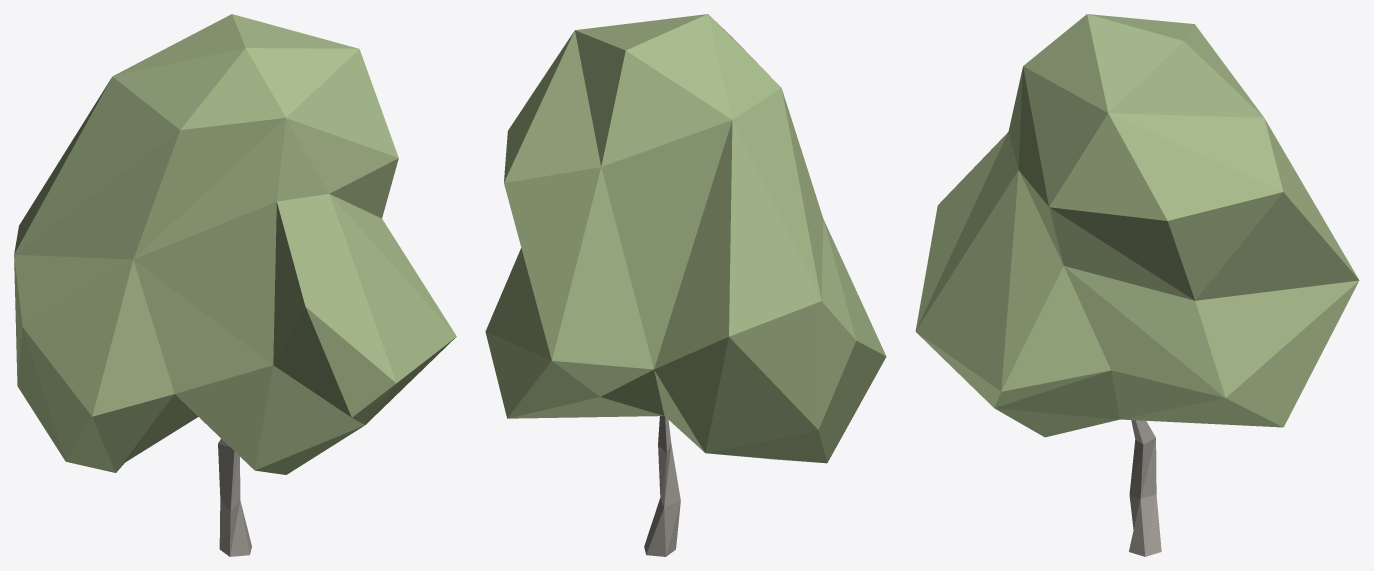
Rendered from RobiniaPseudoacacia.glb.
3 renders of one model, left to right at view 1: azimuth 30°, elevation 25°; view 2: azimuth 150°, elevation 25°; view 3: azimuth 270°, elevation 25°, orthographic.
Visible parts, largest first — view 1: Crown, Trunk; view 2: Crown, Trunk; view 3: Crown, Trunk.
Part boxes in pixels (bbox=[...]): Crown: bbox=[14, 14, 456, 474]; Trunk: bbox=[218, 438, 251, 556]; Crown: bbox=[485, 14, 886, 463]; Trunk: bbox=[644, 416, 680, 556]; Crown: bbox=[915, 14, 1359, 437]; Trunk: bbox=[1129, 420, 1161, 556].
Size of the model in its own units: 18.83 by 26.8 by 20.52.
